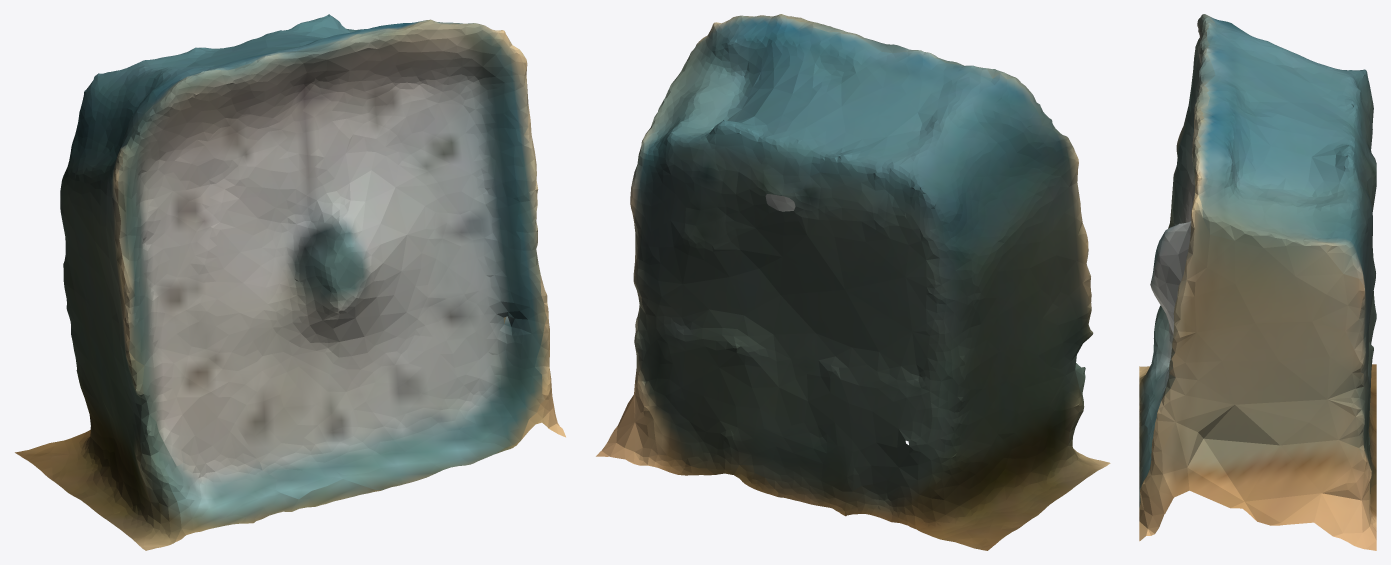
Rendered from Scaniverse 2025-10-24 221303.fbx.
3 renders of one model, left to right at view 1: azimuth 30°, elevation 25°; view 2: azimuth 150°, elevation 25°; view 3: azimuth 270°, elevation 25°, orthographic. The views are drawn at different scales.
Parts seen in each view (by area): view 1: mesh; view 2: mesh; view 3: mesh.
Boxes of the visible parts, bbox=[...] form: mesh: bbox=[15, 14, 565, 550]; mesh: bbox=[596, 14, 1110, 550]; mesh: bbox=[1139, 14, 1376, 550].
Size of the model in its own units: 0.0929 by 0.0906 by 0.0504.
1 material, 1 textured.
